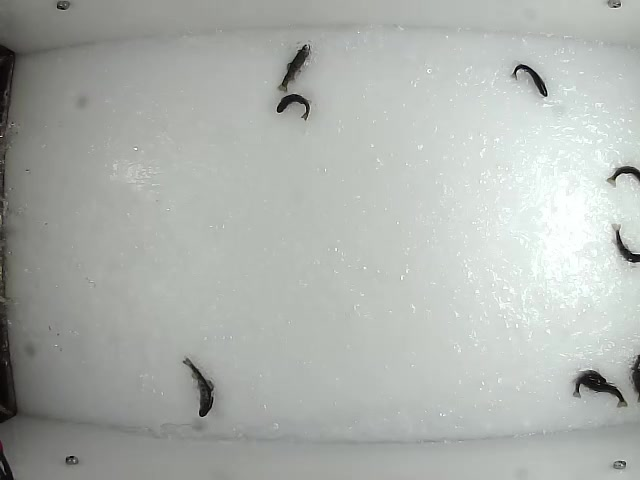fish: (178, 354, 217, 419), (273, 40, 312, 94), (578, 375, 629, 408), (510, 62, 549, 99), (274, 91, 312, 122), (572, 370, 607, 398)
